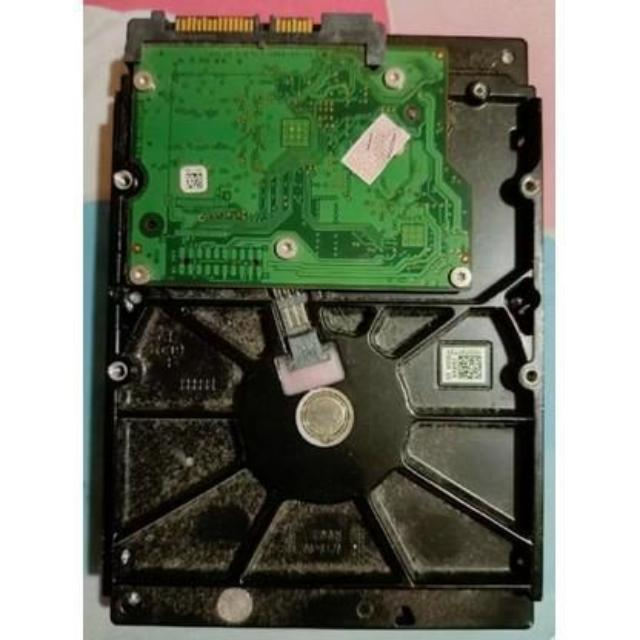DISK: (98, 3, 553, 640)
